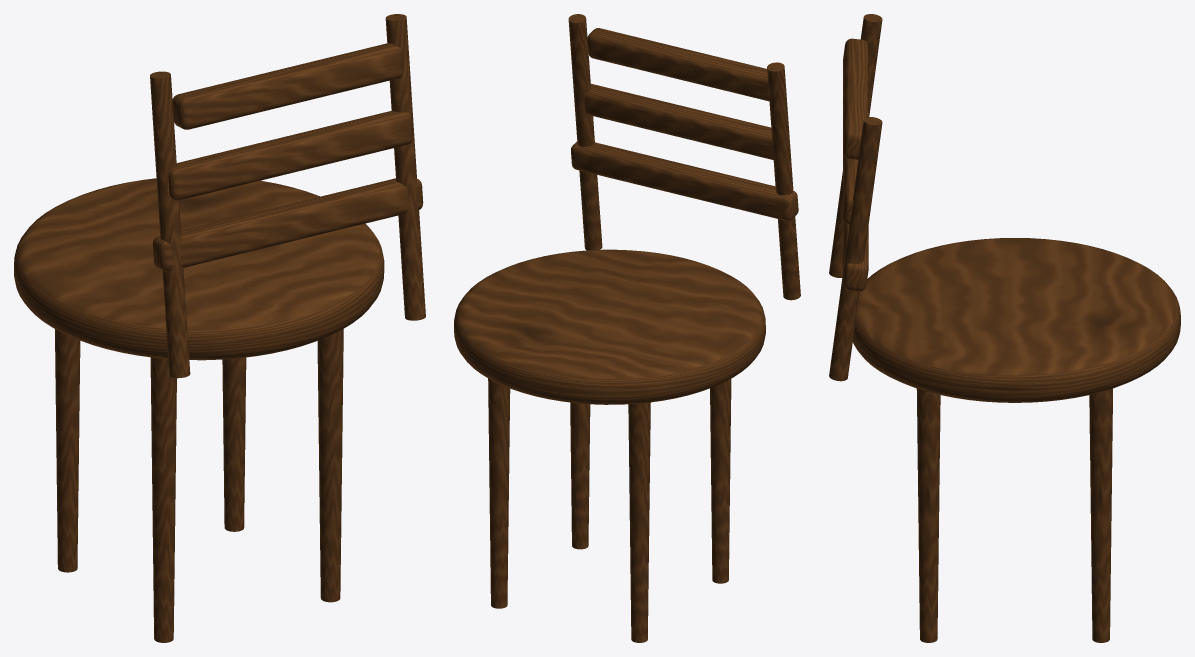
Rendered from razoredge-modern-dining-chair.glb.
3 renders of one model, left to right at view 1: azimuth 30°, elevation 25°; view 2: azimuth 150°, elevation 25°; view 3: azimuth 270°, elevation 25°, orthographic. The views are drawn at different scales.
Parts seen in each view (by area): view 1: seat, back_slat_0, back_slat_1, back_slat_2, leg.002, leg.003, post, leg.001, post.001, leg; view 2: seat, back_slat_0, back_slat_1, back_slat_2, leg.001, leg, leg.002, post, post.001, leg.003; view 3: seat, leg.003, leg, post.001, back_slat_2, post, back_slat_0, back_slat_1.
Part boxes in pixels (bbox=[...]): seat: bbox=[14, 178, 384, 360]; back_slat_0: bbox=[152, 178, 423, 271]; back_slat_1: bbox=[168, 110, 413, 200]; back_slat_2: bbox=[172, 43, 403, 129]; leg.002: bbox=[150, 357, 176, 642]; leg.003: bbox=[317, 329, 343, 602]; post: bbox=[150, 71, 190, 378]; leg.001: bbox=[55, 329, 80, 572]; post.001: bbox=[385, 14, 425, 320]; leg: bbox=[222, 357, 246, 531]; seat: bbox=[454, 249, 765, 404]; back_slat_0: bbox=[571, 141, 798, 220]; back_slat_1: bbox=[584, 83, 773, 159]; back_slat_2: bbox=[587, 28, 769, 101]; leg.001: bbox=[628, 402, 650, 642]; leg: bbox=[488, 378, 510, 608]; leg.002: bbox=[710, 379, 731, 583]; post: bbox=[767, 62, 800, 300]; post.001: bbox=[568, 14, 602, 250]; leg.003: bbox=[570, 402, 590, 549]; seat: bbox=[852, 238, 1180, 402]; leg.003: bbox=[916, 388, 940, 642]; leg: bbox=[1089, 388, 1112, 642]; post.001: bbox=[829, 117, 882, 381]; back_slat_2: bbox=[843, 38, 868, 159]; post: bbox=[829, 14, 882, 277]; back_slat_0: bbox=[843, 219, 868, 291]; back_slat_1: bbox=[843, 154, 858, 224].
Bounding box in the file's own units: 0.49 × 0.8701 × 0.5195.
1 material, 1 textured.
